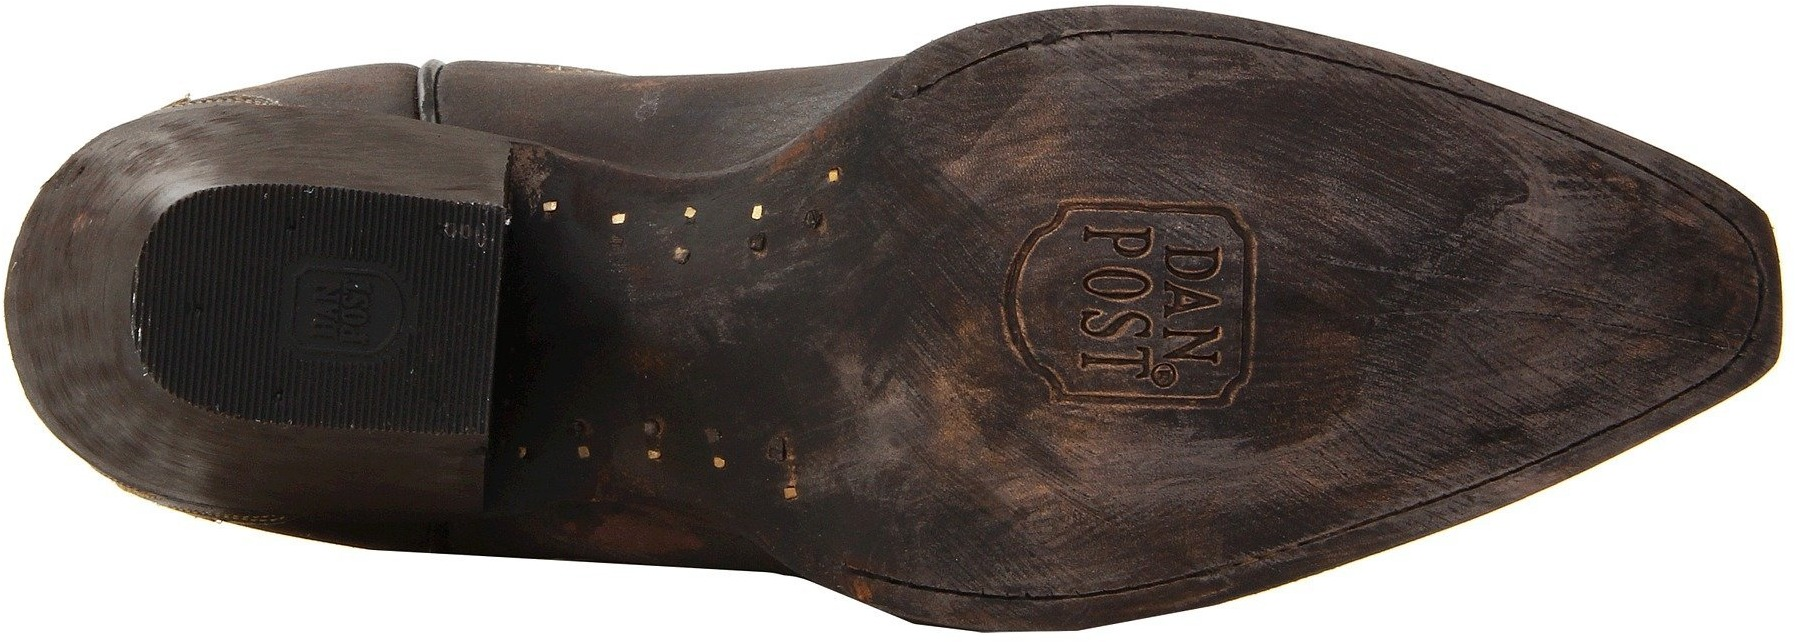circle: (1063, 208, 1242, 397), (1072, 262, 1159, 307), (1147, 351, 1191, 393)
exclude: (476, 141, 745, 533), (220, 499, 802, 620)
other: (1232, 148, 1526, 467), (1237, 163, 1540, 460), (800, 241, 997, 425), (1529, 213, 1705, 380), (1055, 402, 1235, 554), (1065, 51, 1225, 198), (149, 235, 293, 386)
text: (1063, 208, 1242, 397), (305, 269, 386, 358)
